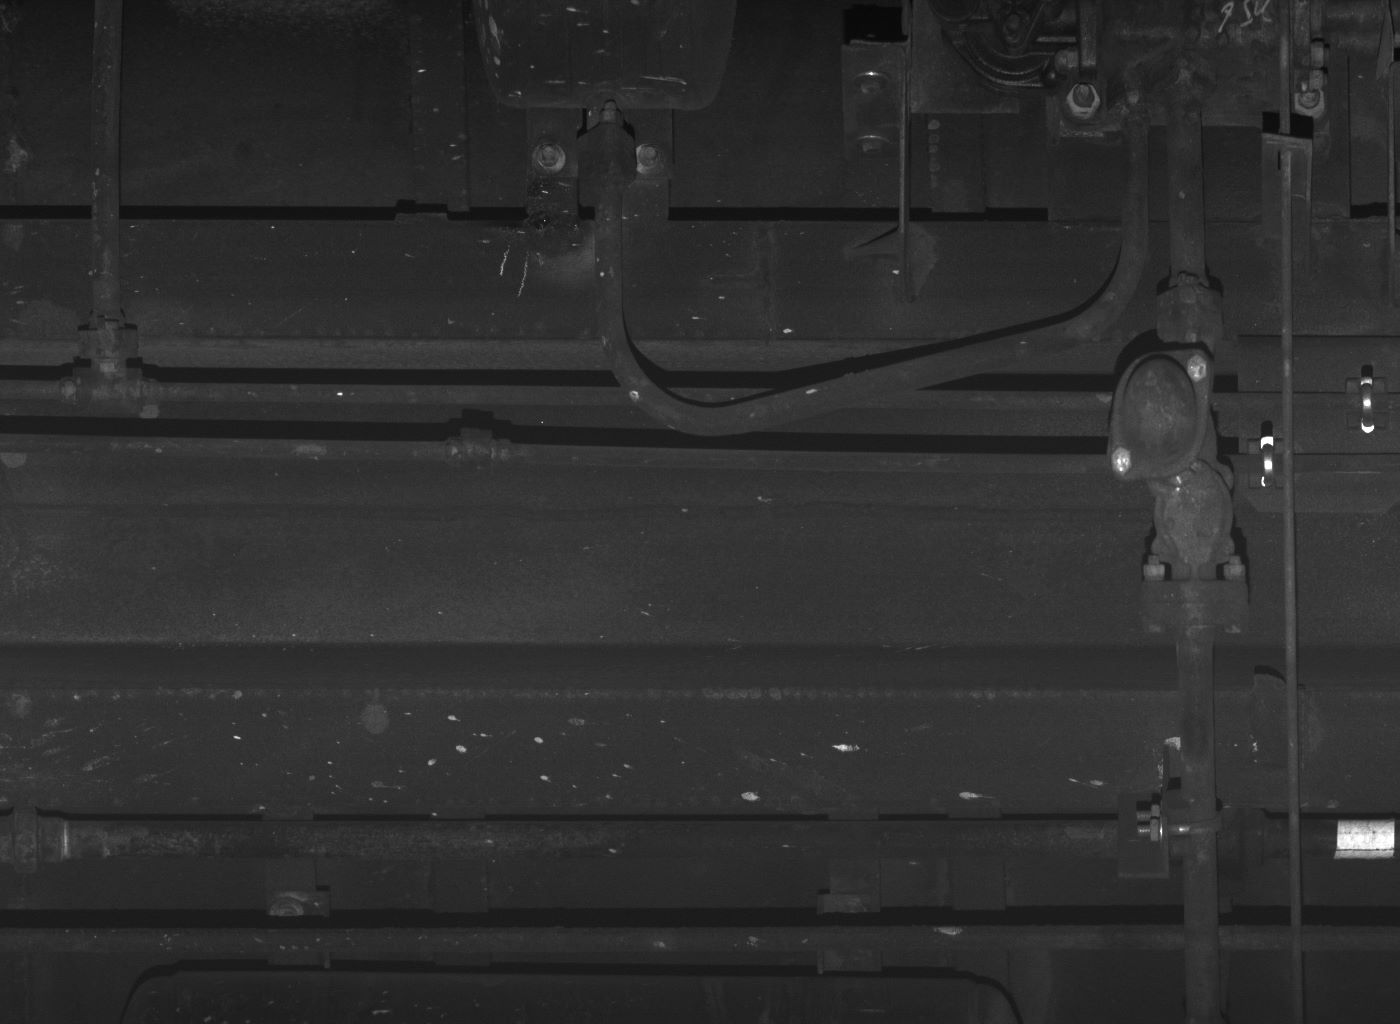normal: (1152, 460, 1240, 565)
